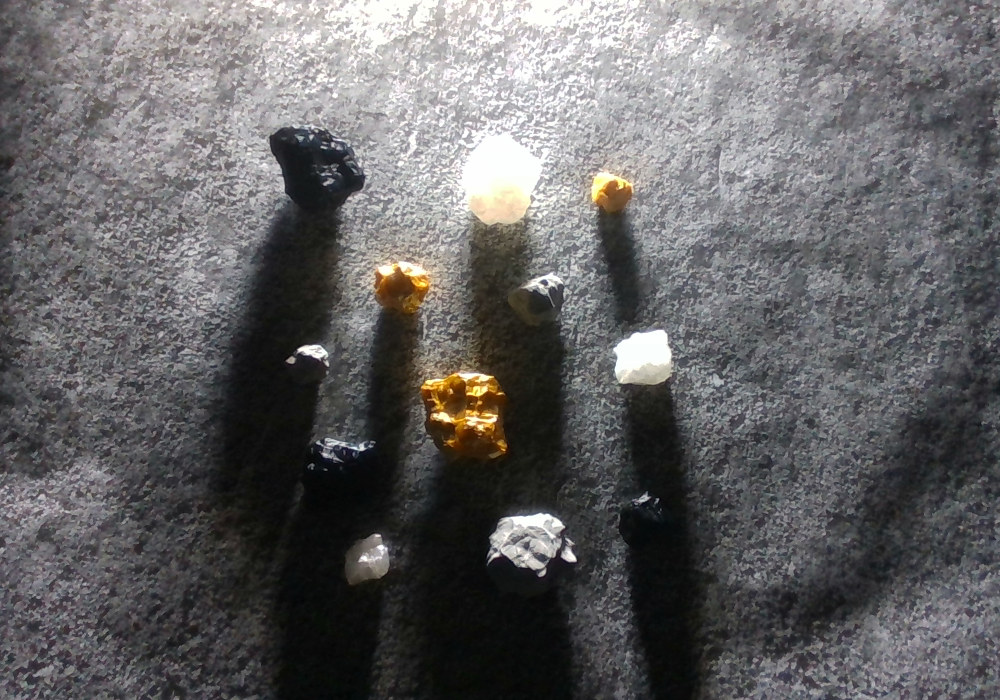anorthosite: (463, 136, 540, 225), (614, 330, 672, 387), (344, 533, 390, 586)
basalt: (270, 123, 365, 212), (300, 436, 380, 514), (618, 489, 679, 554)
metal: (420, 372, 509, 462), (371, 262, 429, 315), (592, 172, 634, 214)
regolith: (484, 513, 577, 599), (507, 274, 565, 325), (287, 345, 331, 385)
